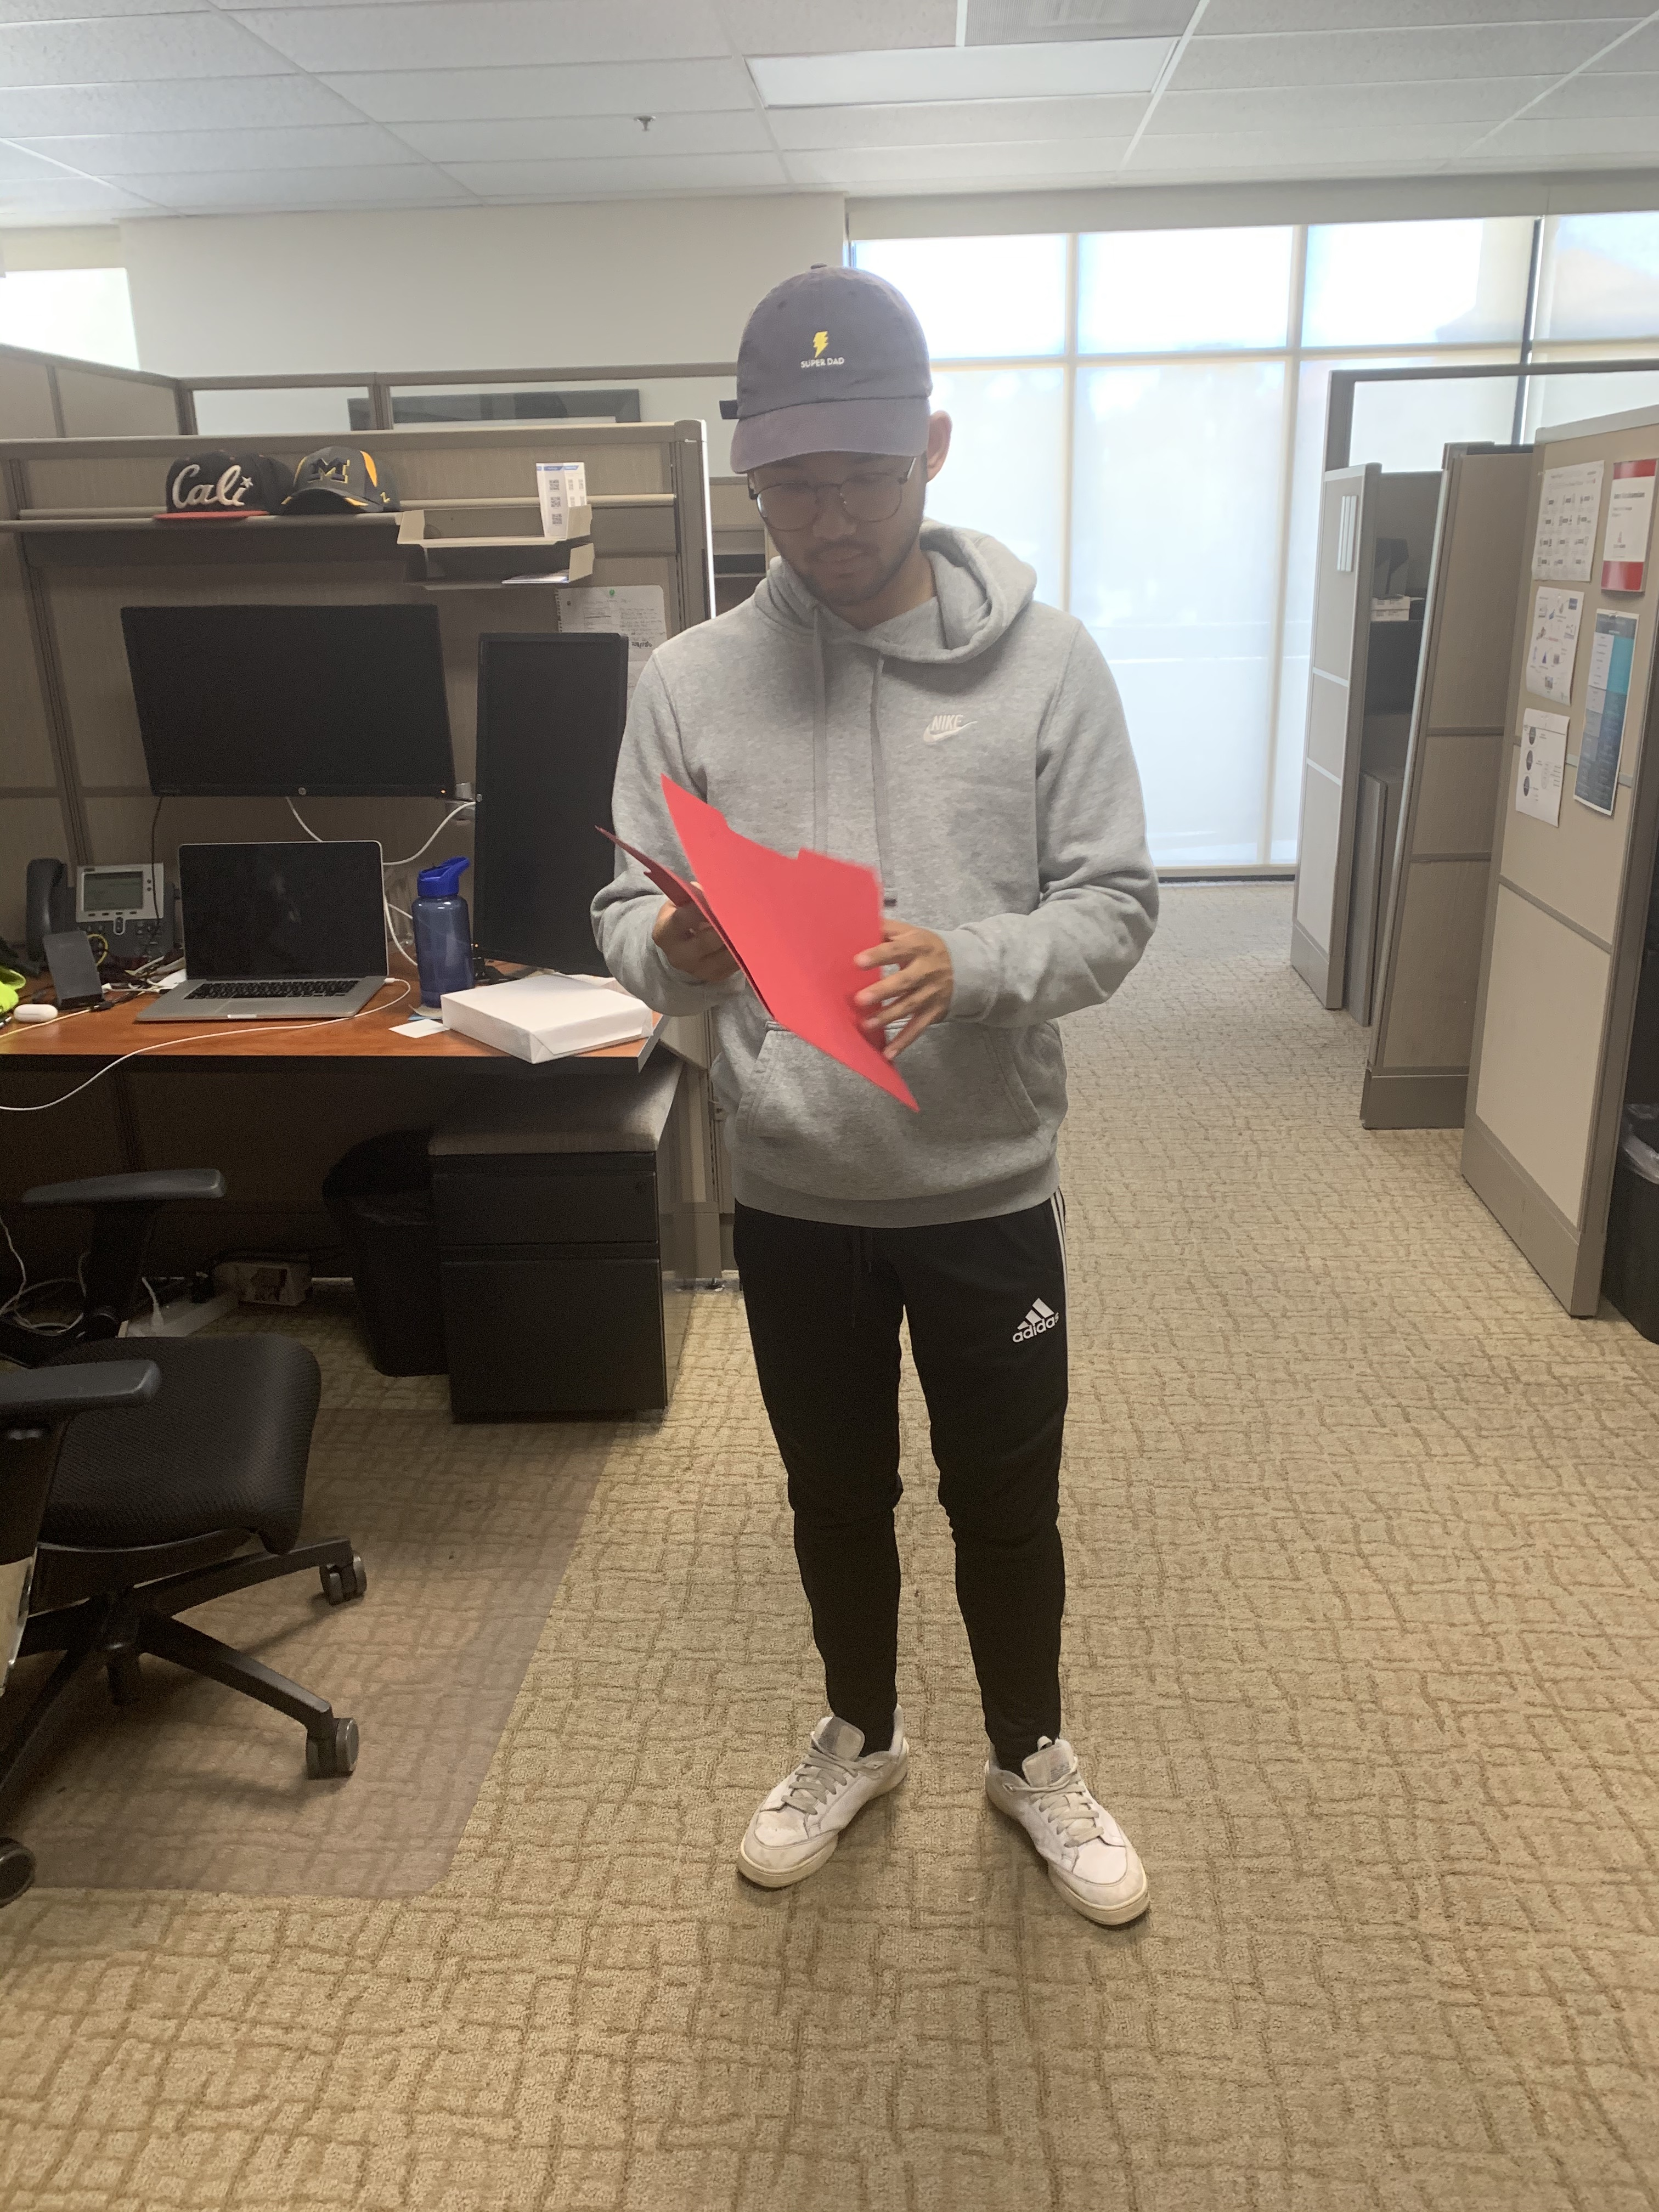red folder: (572, 765, 969, 1134)
